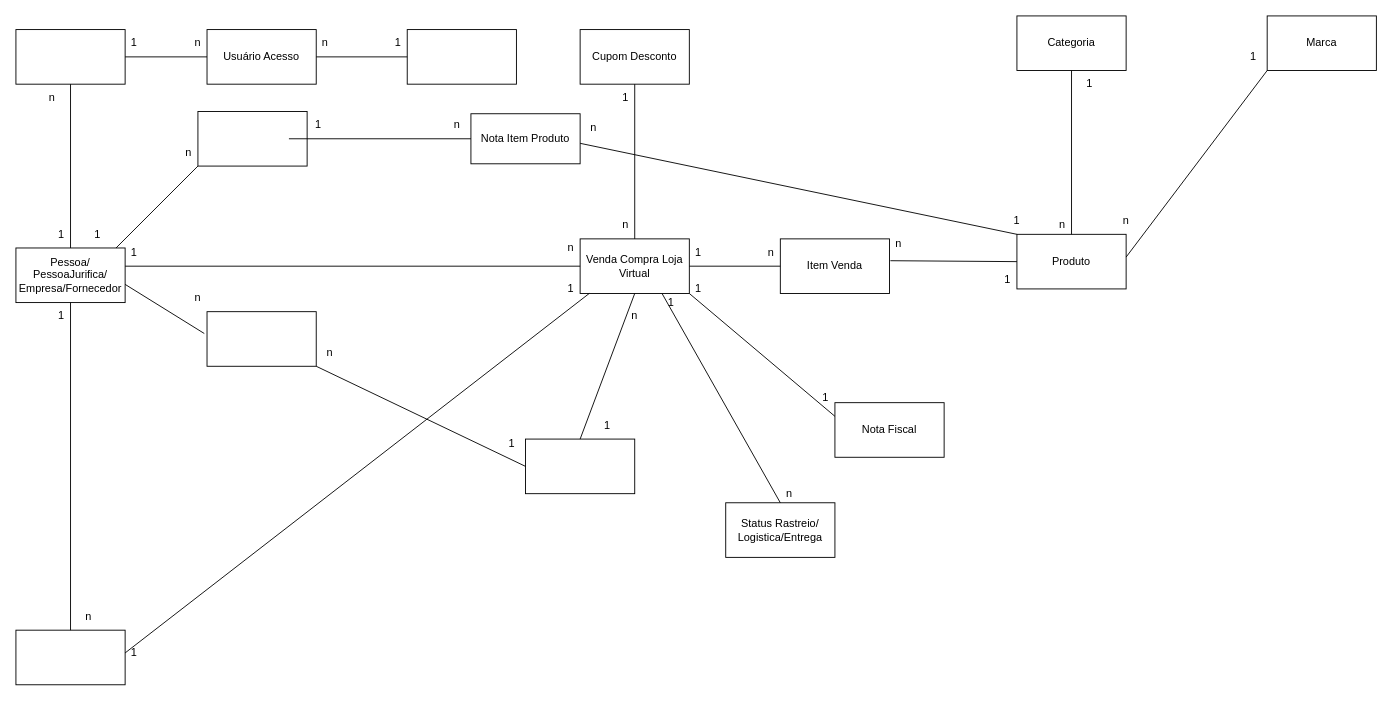
Some shapes in this 1392 by 701 pixel diagram are drawn without their labels. The shapes that lost their labels are listed below. From the top down, each one's box as (x1, y1, x2, y2) in pixels, then its label:
(15, 29, 125, 84): Usuário
(406, 29, 516, 84): Acesso
(197, 111, 307, 166): Nota Fiscal Compra
(206, 311, 316, 366): Conta Pagar
(525, 438, 635, 494): Forma Pagamento
(15, 629, 125, 685): Contas a Receber
